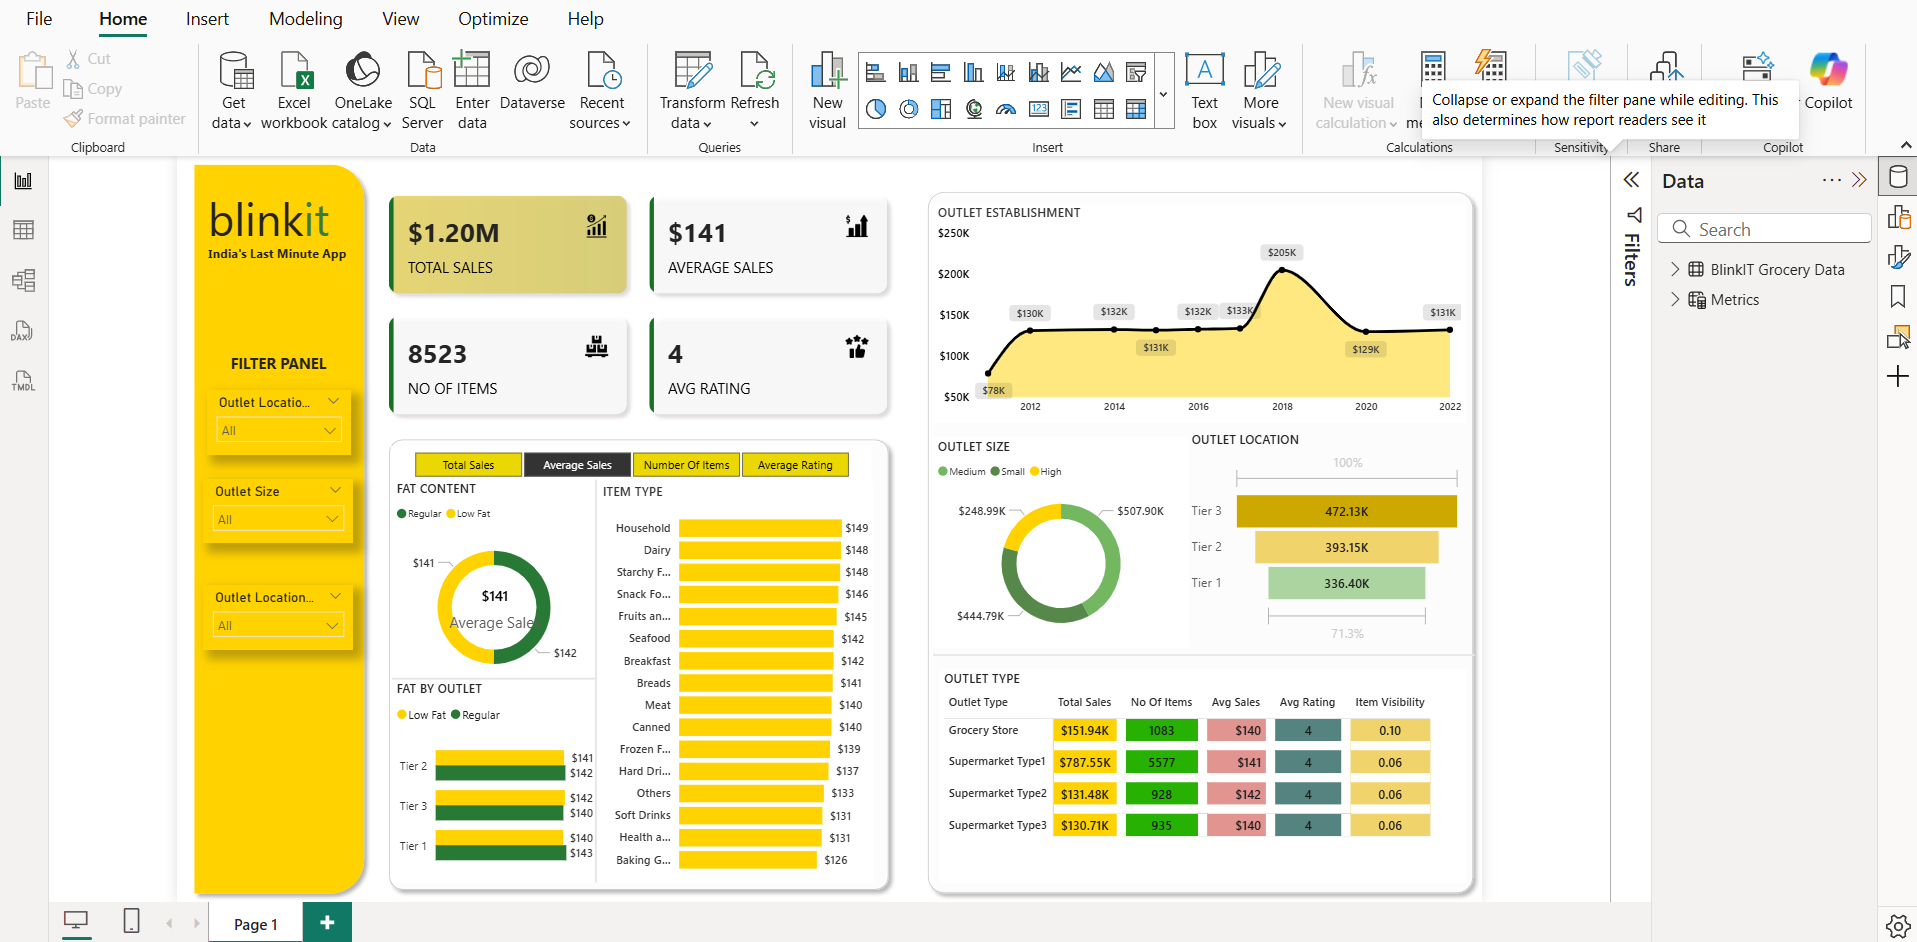

This screenshot's page, from the dashboard's own definition file:
{"tool":"powerbi","page":{"name":"Page 1","canvas":[1400,800],"ordinal":0},"visuals":[{"type":"shape","box":[9.5,0,200.4,800.1],"z":0},{"type":"textbox","box":[28.2,29.5,160.9,138.1],"z":1000},{"type":"textbox","box":[28.4,89.9,161,34.7],"z":2000},{"type":"cardVisual","fields":{"Data":["BlinkIT Grocery Data.Total Sales","BlinkIT Grocery Data.Average Sales","BlinkIT Grocery Data.Number Of Items","BlinkIT Grocery Data.Average Rating"]},"box":[210.7,25.5,569.8,269.7],"z":3000},{"type":"shape","box":[218.7,295.3,553.8,501.1],"z":4000},{"type":"donutChart","title":" FAT CONTENT","fields":{"Y":["BlinkIT Grocery Data.Average Sales"],"Category":["BlinkIT Grocery Data.Item Fat Content"]},"box":[230.4,347.2,219.3,228.8],"z":5000},{"type":"slicer","fields":{"Values":["Metrics.Metrics"]},"box":[229.8,311.2,515.5,39.9],"z":6000},{"type":"cardVisual","fields":{"Data":["BlinkIT Grocery Data.Average Sales"]},"box":[274.6,441.8,132.6,86.8],"z":7000},{"type":"clusteredBarChart","title":"FAT BY OUTLET","fields":{"Y":["BlinkIT Grocery Data.Average Sales"],"Category":["BlinkIT Grocery Data.Outlet Location Type"],"Series":["BlinkIT Grocery Data.Item Fat Content"]},"box":[230.4,561.8,220.9,217.8],"z":8000},{"type":"shape","box":[230.4,546,219.3,30],"z":9000},{"type":"shape","box":[430.8,347.2,37.9,432.4],"z":10000},{"type":"barChart","title":"ITEM TYPE","fields":{"Y":["BlinkIT Grocery Data.Average Sales"],"Category":["BlinkIT Grocery Data.Item Type"]},"box":[451.3,350.3,295.1,429.2],"z":11000},{"type":"shape","box":[796.9,30,602.8,770.1],"z":12000},{"type":"lineChart","title":"OUTLET ESTABLISHMENT","fields":{"Category":["BlinkIT Grocery Data.Outlet Establishment Year"],"Y":["BlinkIT Grocery Data.Total Sales"]},"box":[811.1,50.5,571.2,235.1],"z":13000},{"type":"donutChart","title":"OUTLET SIZE","fields":{"Y":["BlinkIT Grocery Data.Total Sales"],"Category":["BlinkIT Grocery Data.Outlet Size"]},"box":[811.1,301.4,274.6,225.7],"z":14000},{"type":"shape","box":[811.1,520.7,580.7,30],"z":15000},{"type":"funnel","title":"OUTLET LOCATION","fields":{"Category":["BlinkIT Grocery Data.Outlet Location Type"],"Y":["Sum(BlinkIT Grocery Data.Sales)"]},"box":[1082.5,295.1,299.8,232],"z":15001},{"type":"pivotTable","title":"OUTLET TYPE","fields":{"Rows":["BlinkIT Grocery Data.Outlet Type"],"Values":["BlinkIT Grocery Data.Total Sales","BlinkIT Grocery Data.Number Of Items","BlinkIT Grocery Data.Average Sales","BlinkIT Grocery Data.Average Rating","Avg(BlinkIT Grocery Data.Item Visibility)"]},"box":[817.4,550.7,564.9,228.8],"z":15002},{"type":"slicer","fields":{"Values":["BlinkIT Grocery Data.Outlet Location Type"]},"box":[31.6,250.9,154.6,69.4],"z":15003},{"type":"slicer","fields":{"Values":["BlinkIT Grocery Data.Outlet Size"]},"box":[28.4,345.6,161,69.4],"z":15004},{"type":"slicer","fields":{"Values":["BlinkIT Grocery Data.Outlet Location Type","BlinkIT Grocery Data.Item Type"]},"box":[28.4,459.2,161,69.4],"z":15005},{"type":"textbox","box":[34.7,206.7,161,31.6],"z":15006}]}

Visuals, with their boxes on the page's 1400x800 design canvas (x1, y1, x2, y2). These are canvas units, not pixel positions in the 1917x942 screenshot, which may show the page scaled, cropped or inside an application window:
shape: locate(10, 0, 210, 800)
textbox: locate(28, 30, 189, 168)
textbox: locate(28, 90, 189, 125)
cardVisual - BlinkIT Grocery Data.Total Sales x BlinkIT Grocery Data.Average Sales: locate(211, 26, 780, 295)
shape: locate(219, 295, 772, 796)
" FAT CONTENT" donutChart: locate(230, 347, 450, 576)
slicer - Metrics.Metrics: locate(230, 311, 745, 351)
cardVisual - BlinkIT Grocery Data.Average Sales: locate(275, 442, 407, 529)
"FAT BY OUTLET" clusteredBarChart: locate(230, 562, 451, 780)
shape: locate(230, 546, 450, 576)
shape: locate(431, 347, 469, 780)
"ITEM TYPE" barChart: locate(451, 350, 746, 780)
shape: locate(797, 30, 1400, 800)
"OUTLET ESTABLISHMENT" lineChart: locate(811, 50, 1382, 286)
"OUTLET SIZE" donutChart: locate(811, 301, 1086, 527)
shape: locate(811, 521, 1392, 551)
"OUTLET LOCATION" funnel: locate(1082, 295, 1382, 527)
"OUTLET TYPE" pivotTable: locate(817, 551, 1382, 780)
slicer - BlinkIT Grocery Data.Outlet Location Type: locate(32, 251, 186, 320)
slicer - BlinkIT Grocery Data.Outlet Size: locate(28, 346, 189, 415)
slicer - BlinkIT Grocery Data.Outlet Location Type x BlinkIT Grocery Data.Item Type: locate(28, 459, 189, 529)
textbox: locate(35, 207, 196, 238)
